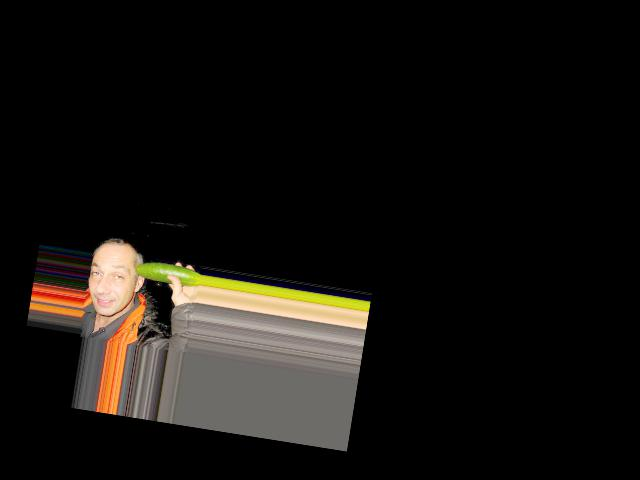cucumber: (133, 259, 201, 287)
